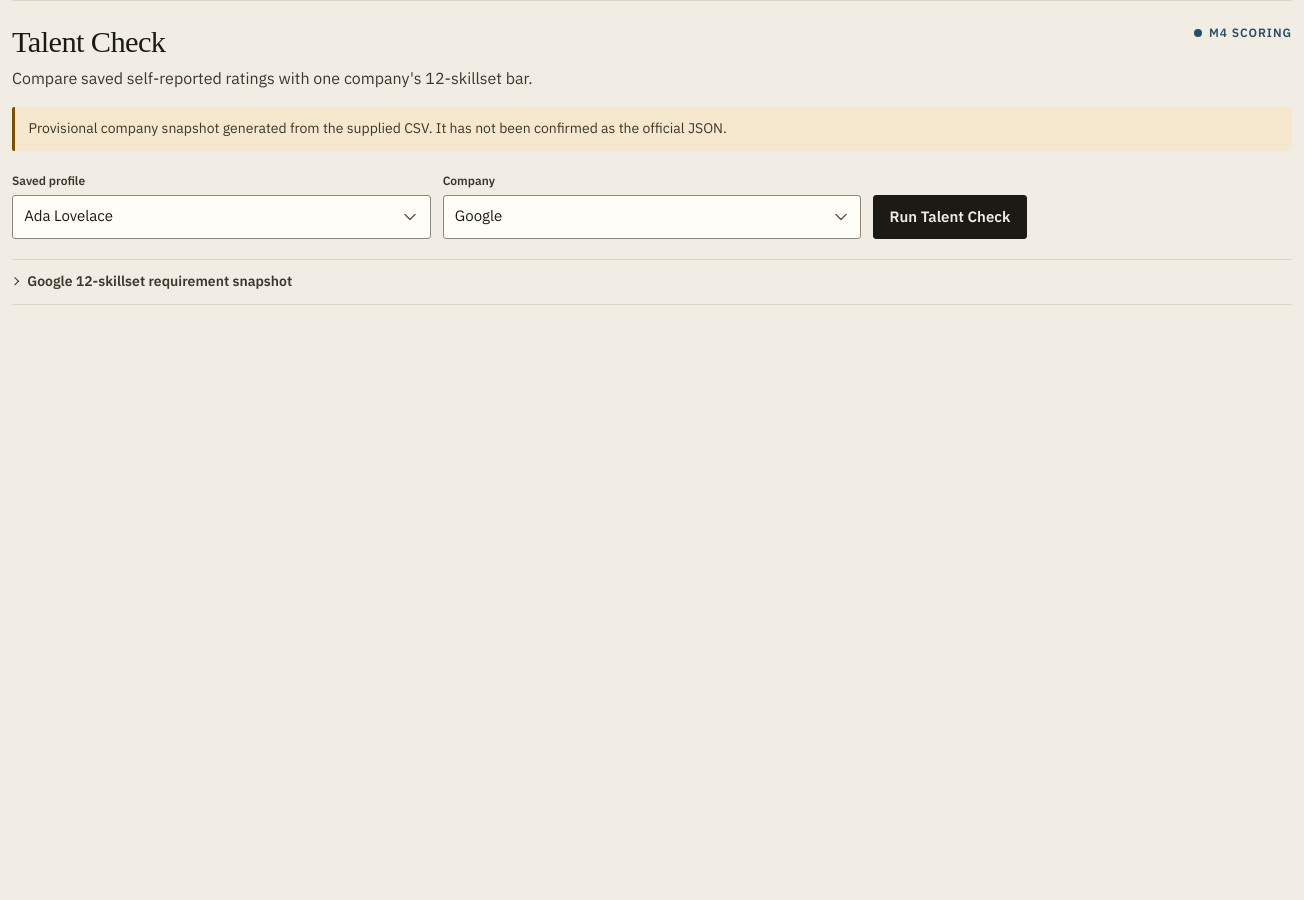
Talent Check panel › loads the 12-skill company bar and displays a score and gap rows
Click the heading "Google 12-skillset requirement snapshot": x=160, y=281 [27,272,292,290]
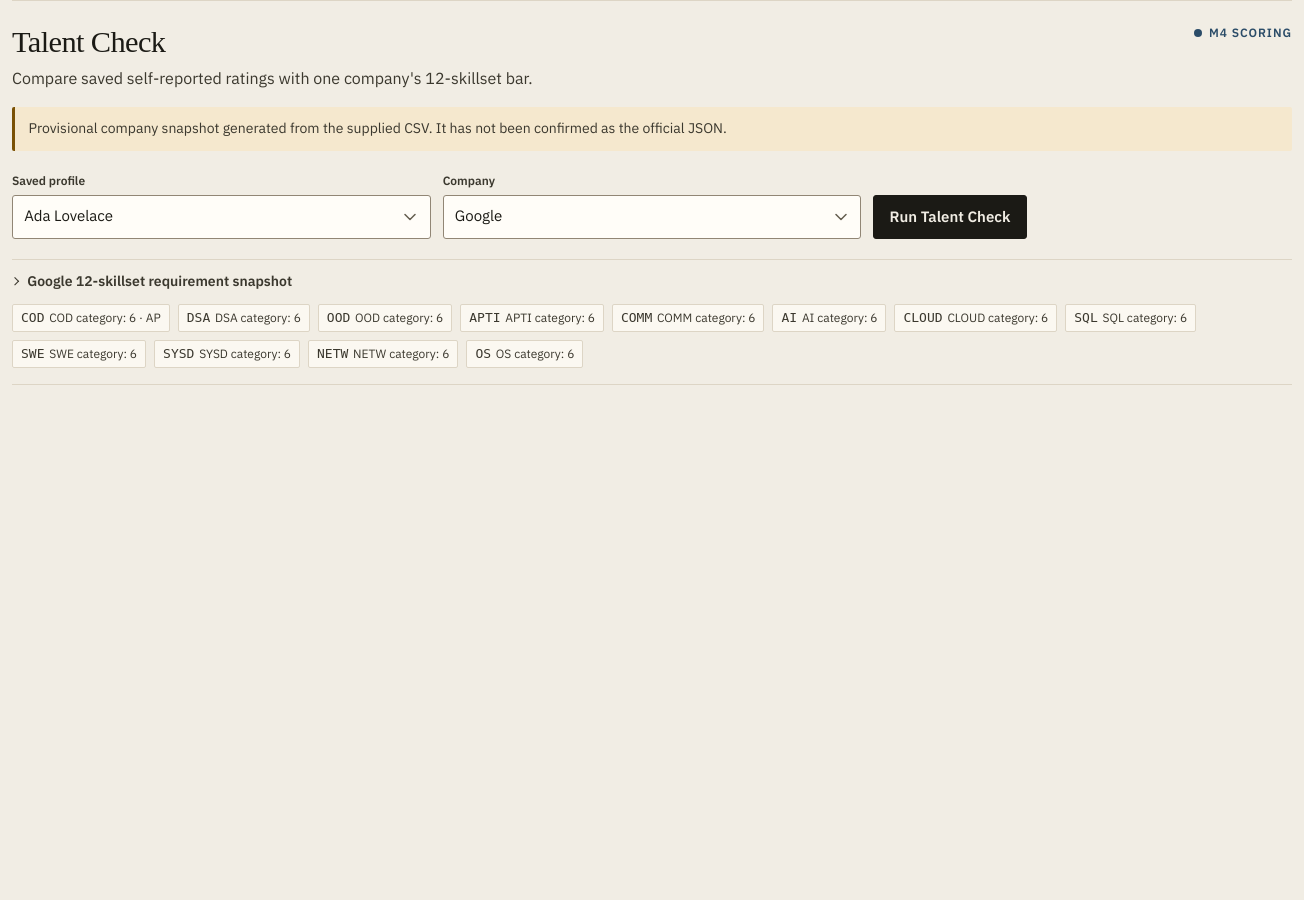
Expected: the text "COD" is shown, [21,308,44,327]
Click the button "Run Talent Check": x=950, y=216 [873,194,1027,238]
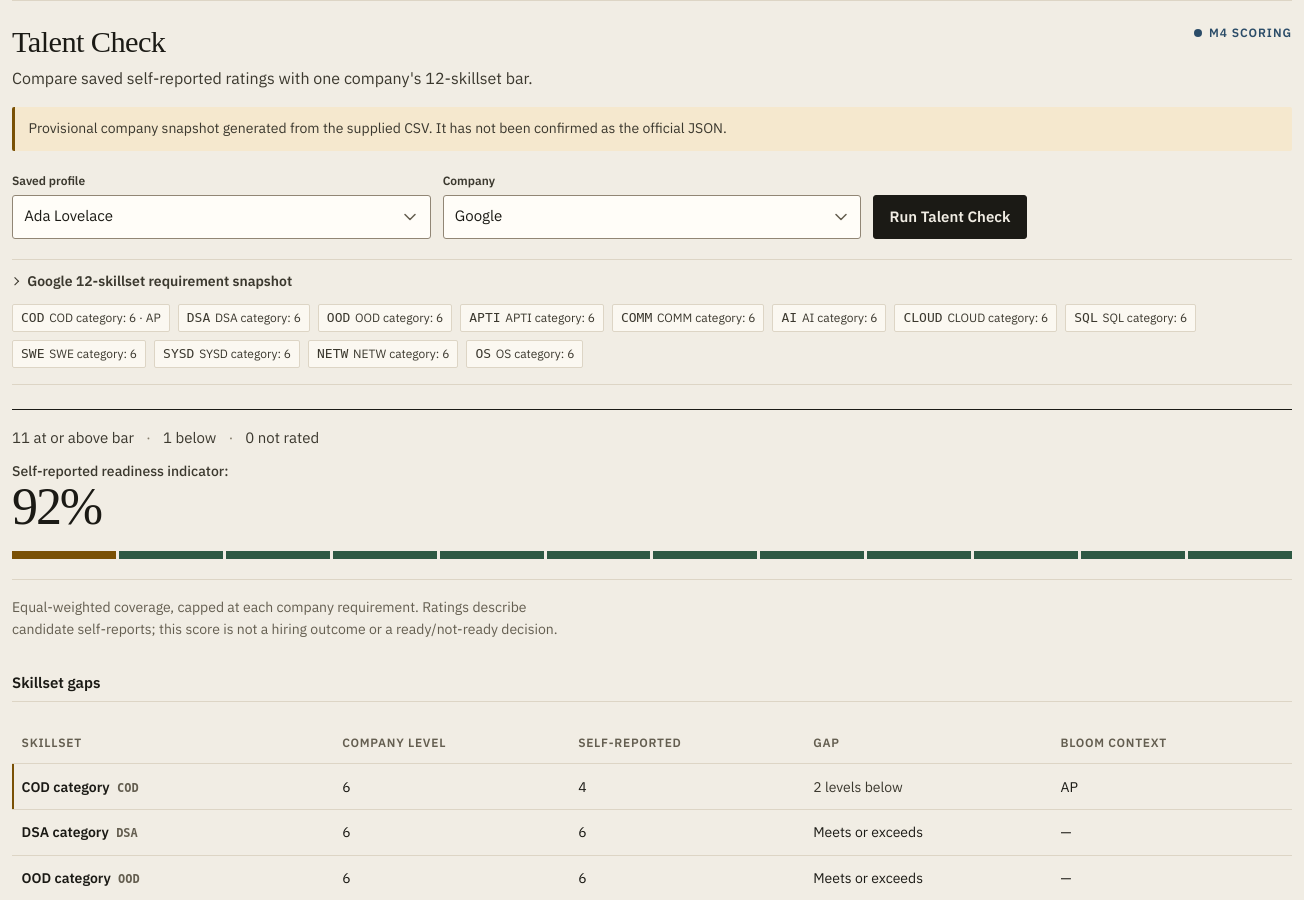
Expected: the text "Self-reported readiness indicator: 92%" is shown, [12,462,228,535]
Expected: the text "92%" is shown, [12,478,101,535]
Expected: the text "2 levels below" is shown, [804,764,1051,810]
